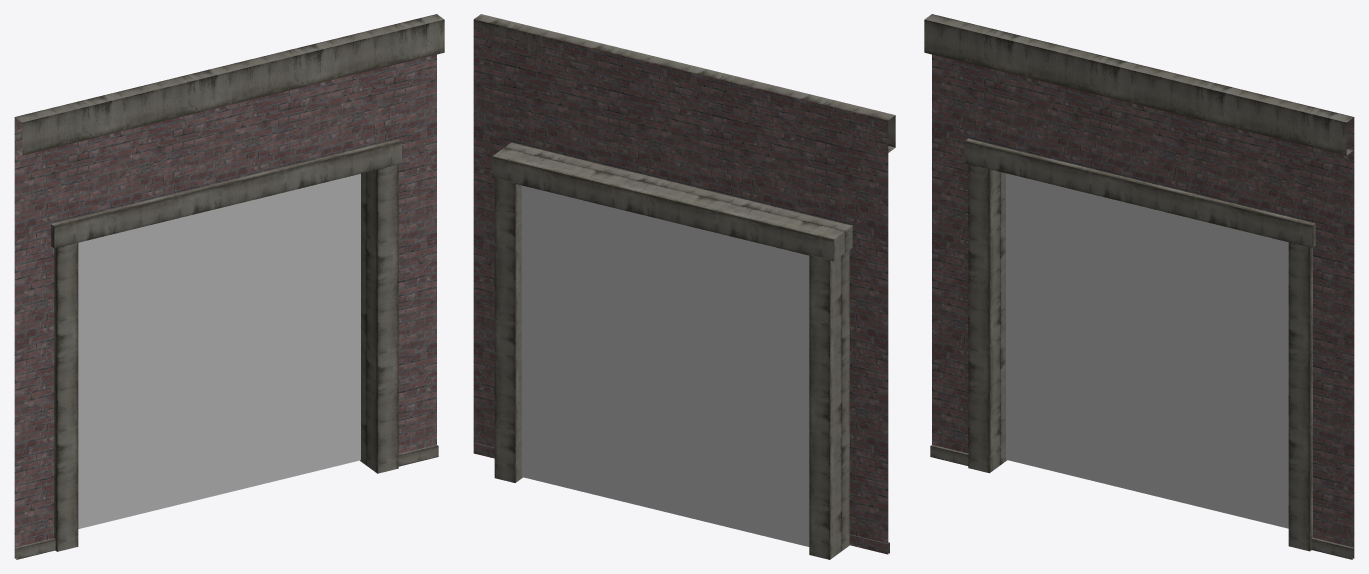
File: Wall_D_Brick_DoorRoll_A_4x.FBX
The picture shows the model from 3 angles, left to right: view 1: azimuth 30°, elevation 25°; view 2: azimuth 150°, elevation 25°; view 3: azimuth 330°, elevation 25°; orthographic projection.
Parts seen in each view (by area): view 1: Wall_D_Brick_DoorRoll_A_4x; view 2: Wall_D_Brick_DoorRoll_A_4x; view 3: Wall_D_Brick_DoorRoll_A_4x.
Part boxes in pixels (x1,y1,x2,y2): Wall_D_Brick_DoorRoll_A_4x: [14, 14, 444, 559]; Wall_D_Brick_DoorRoll_A_4x: [473, 14, 895, 559]; Wall_D_Brick_DoorRoll_A_4x: [924, 14, 1354, 559].
Size of the model in its own units: 400 by 400 by 45.14.
